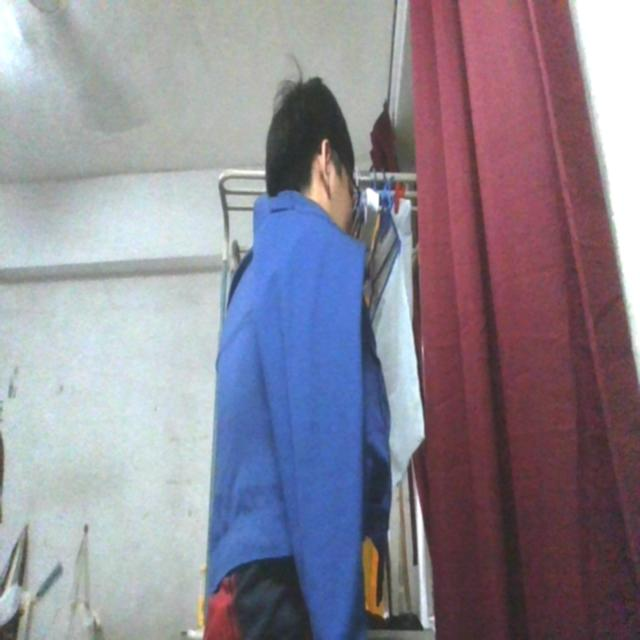person_without_labcoat: (205, 79, 390, 639)
